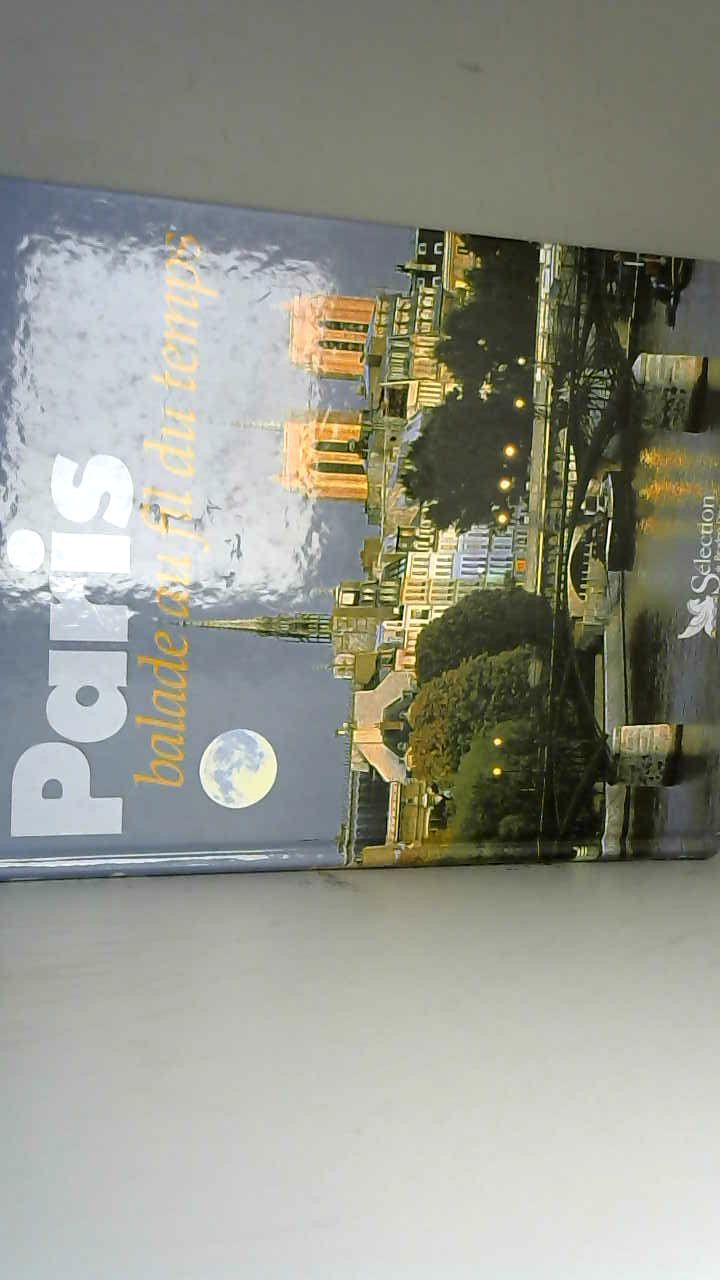book: (0, 157, 720, 894)
